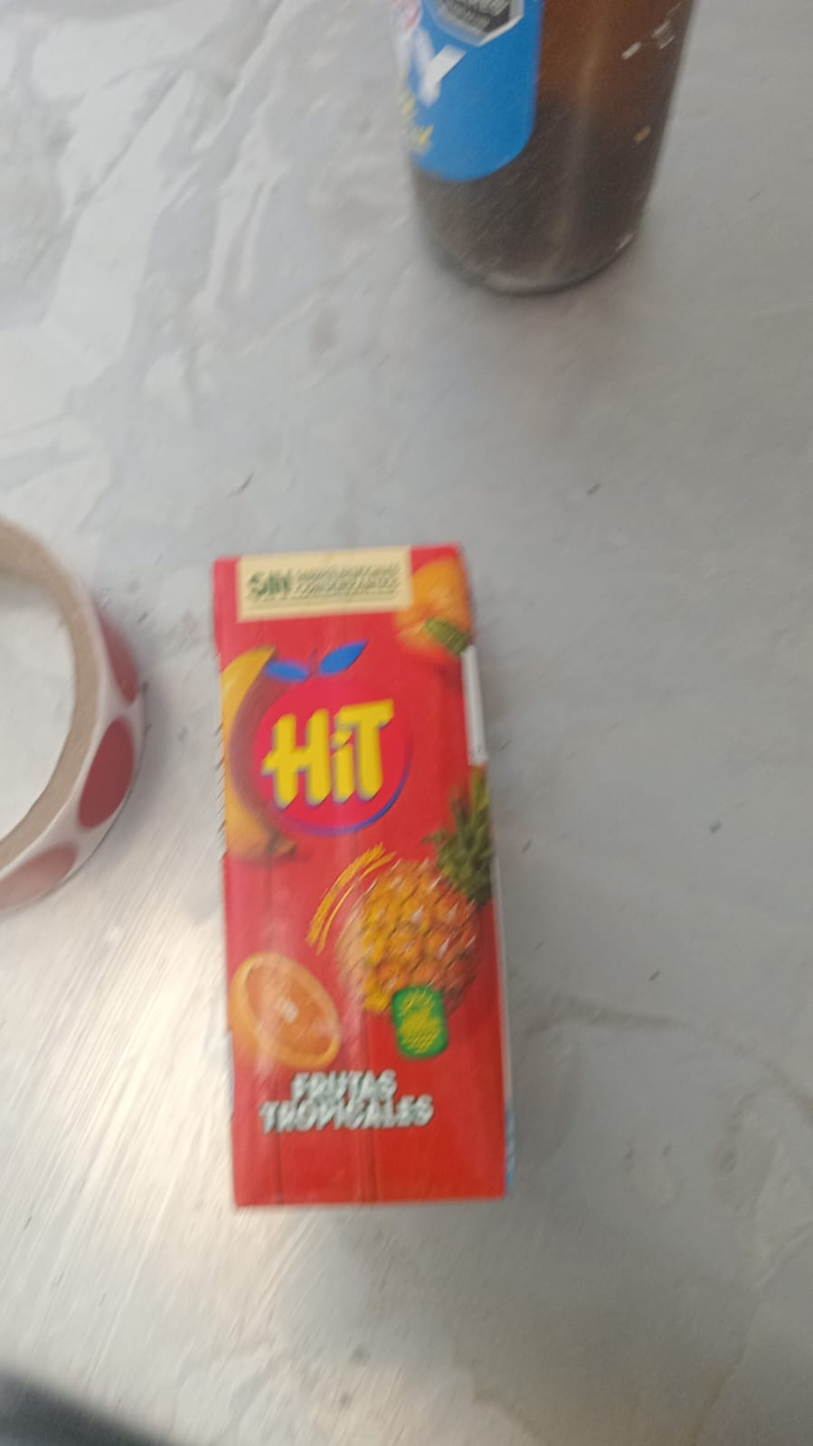Carton: (214, 551, 514, 1204), (0, 518, 145, 908)
Vidrio: (407, 0, 692, 300)
